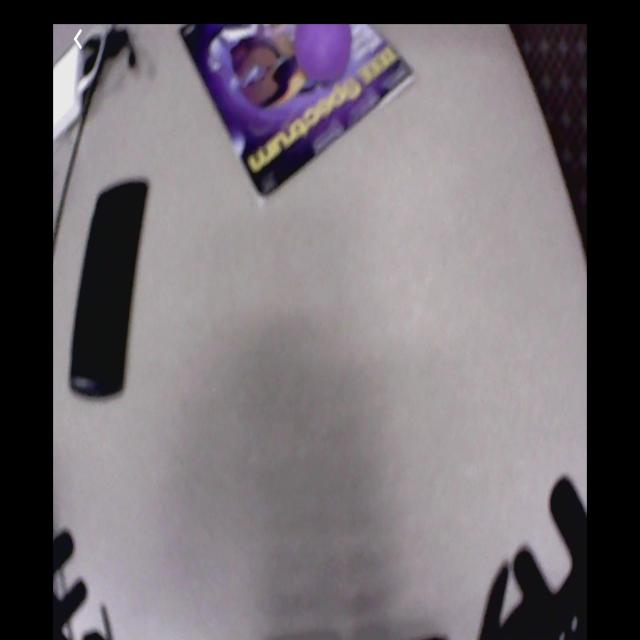ball: (298, 23, 353, 80)
